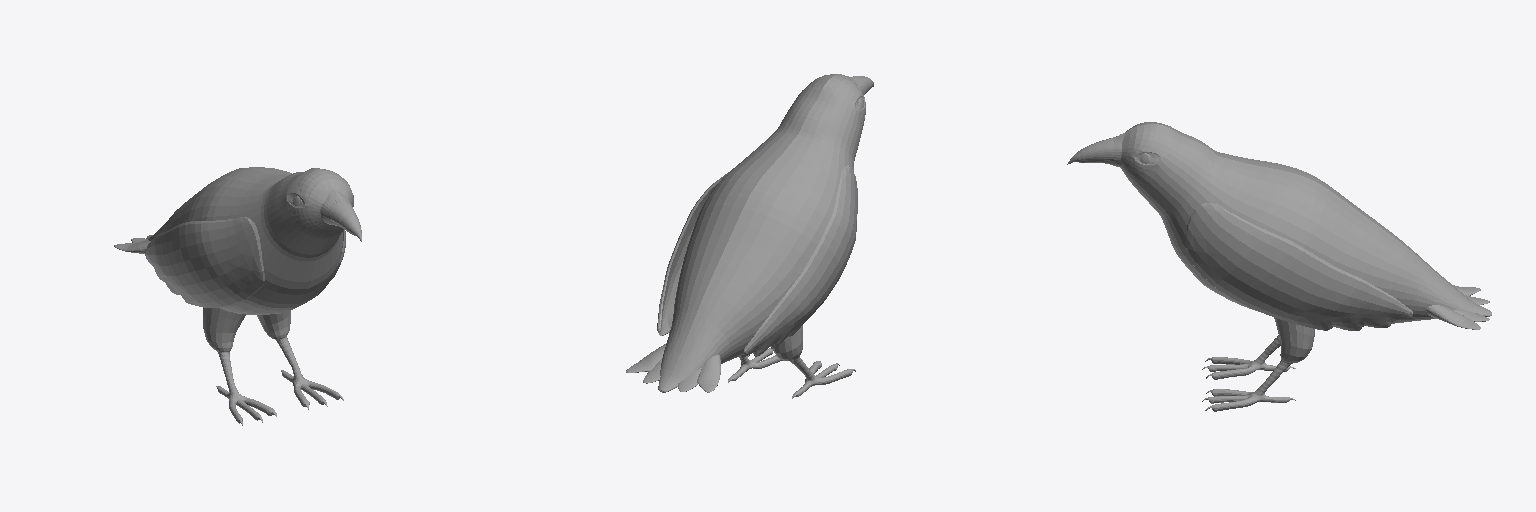
File: crown.obj
The picture shows the model from 3 angles: view 1: azimuth 30°, elevation 25°; view 2: azimuth 150°, elevation 25°; view 3: azimuth 270°, elevation 25°; orthographic projection.
Visible parts, largest first — view 1: Cylinder, Cylinder.003, Cylinder.001; view 2: Cylinder, Cylinder.003, Cylinder.001; view 3: Cylinder, Cylinder.003, Cylinder.001.
Boxes of the visible parts, box(x1,y1,x2,y2) form: Cylinder: box(114, 167, 361, 314); Cylinder.003: box(145, 217, 345, 307); Cylinder.001: box(203, 307, 343, 425); Cylinder: box(626, 74, 873, 392); Cylinder.003: box(657, 165, 857, 356); Cylinder.001: box(728, 325, 855, 398); Cylinder: box(1067, 122, 1491, 329); Cylinder.003: box(1186, 203, 1413, 330); Cylinder.001: box(1202, 318, 1314, 411).
Bounding box in the file's own units: 3.12 × 5.49 × 8.01.